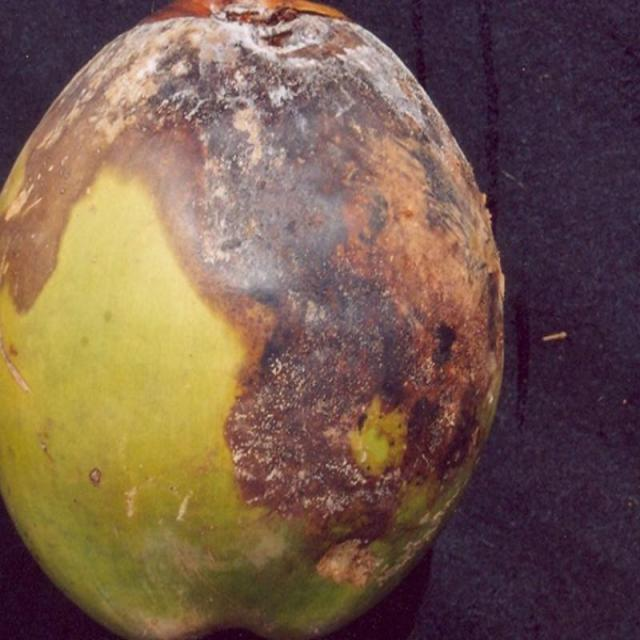damaged: (0, 0, 506, 639)
